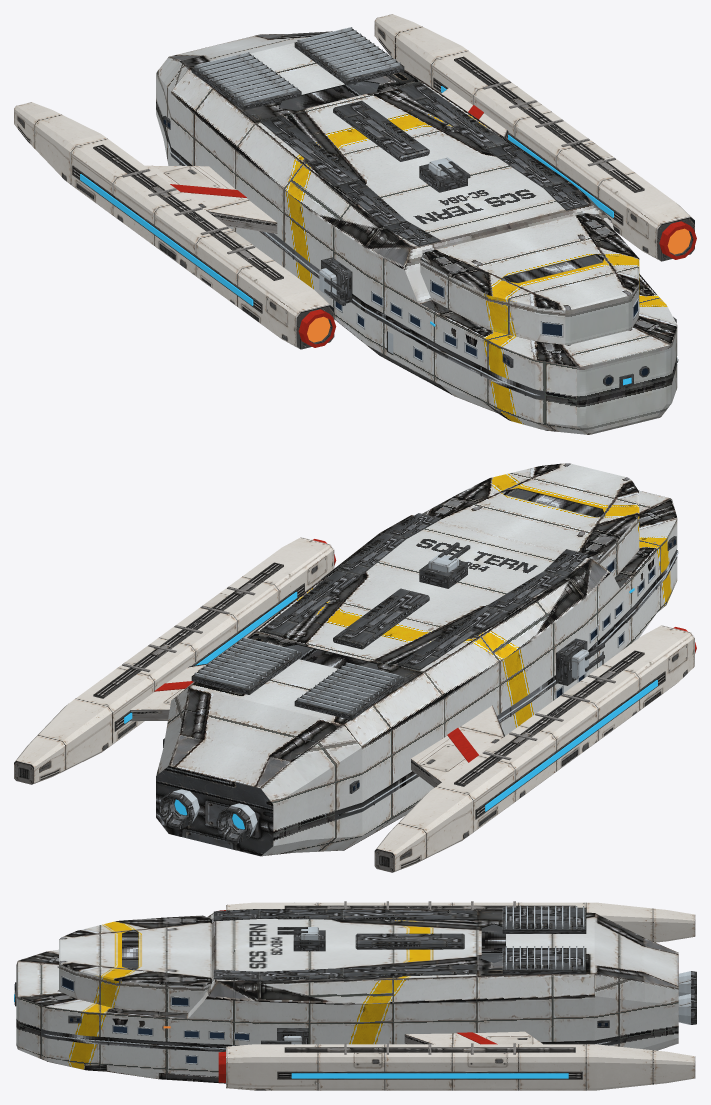
File: tern.glb
The picture shows the model from 3 angles, top to bottom: view 1: azimuth 30°, elevation 25°; view 2: azimuth 150°, elevation 25°; view 3: azimuth 270°, elevation 25°; orthographic projection. The views are drawn at different scales.
Parts seen in each view (by area): view 1: tern; view 2: tern; view 3: tern.
Part boxes in pixels (x1,y1,x2,y2): tern: (14, 14, 696, 434); tern: (14, 463, 696, 872); tern: (14, 901, 696, 1090).
Size of the model in its own units: 45 by 18.04 by 81.47.
Materials: 7 (5 with a texture image).
